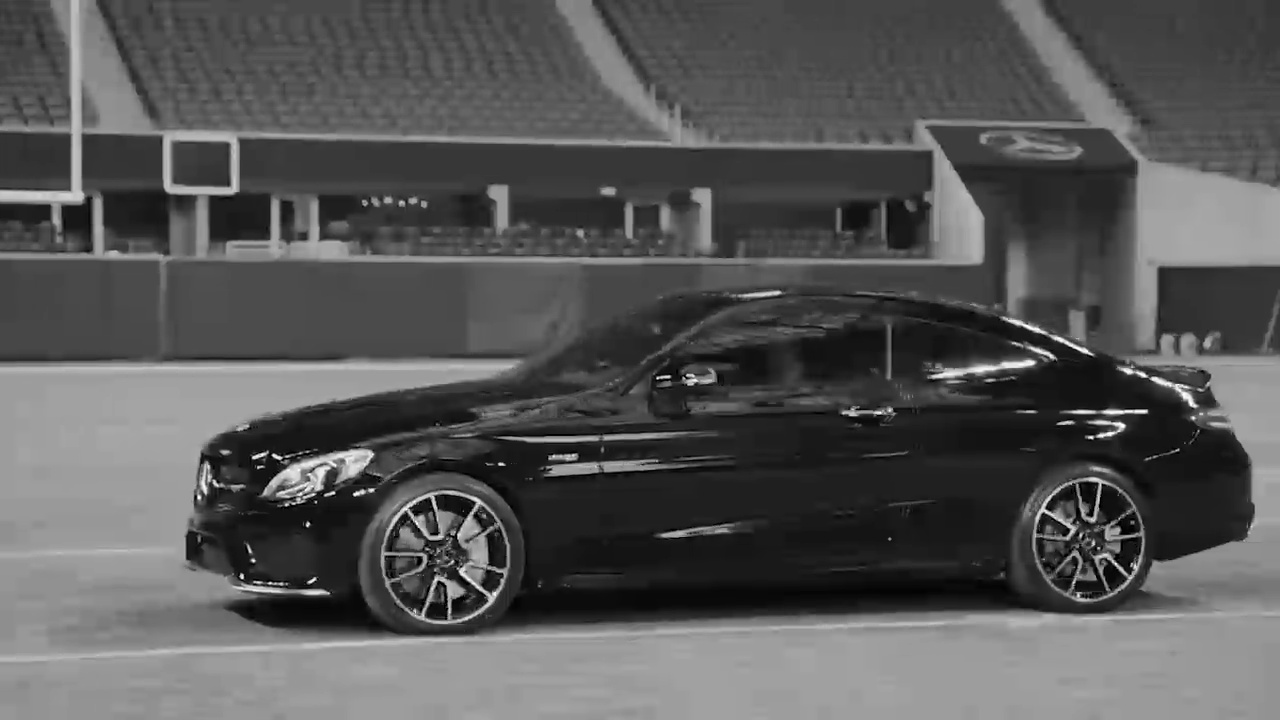car: (170, 285, 1256, 629)
